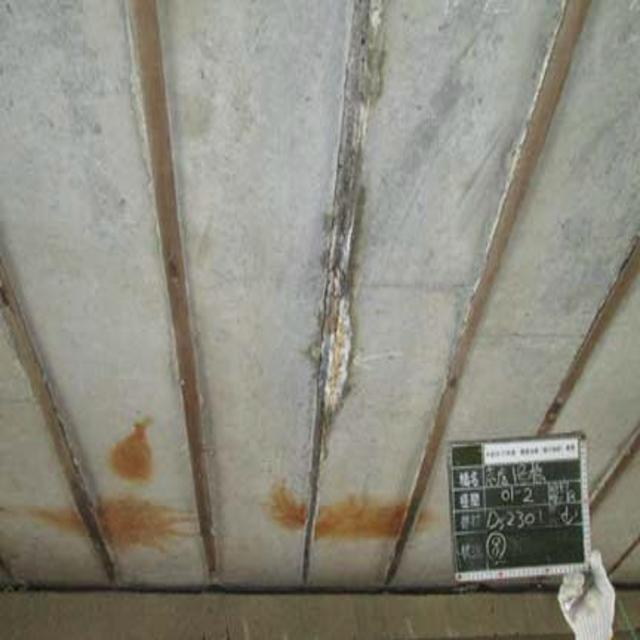corrosion: (84, 424, 184, 567), (258, 470, 438, 549)
